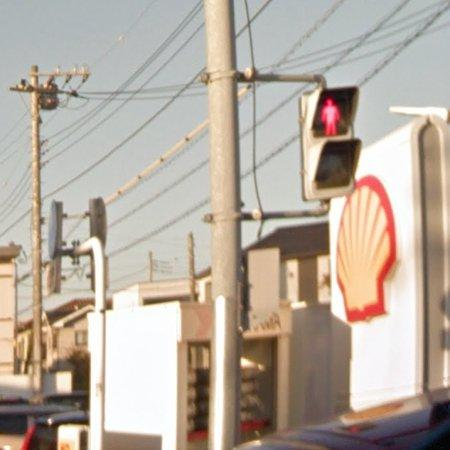traffic lights: (301, 87, 362, 201)
